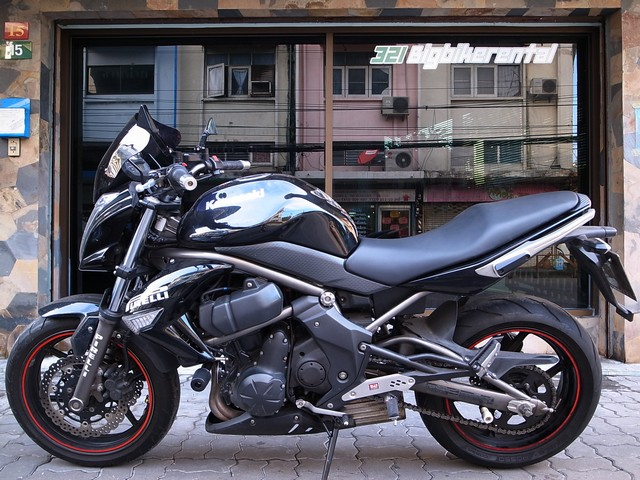motorcycle: (10, 160, 625, 470)
